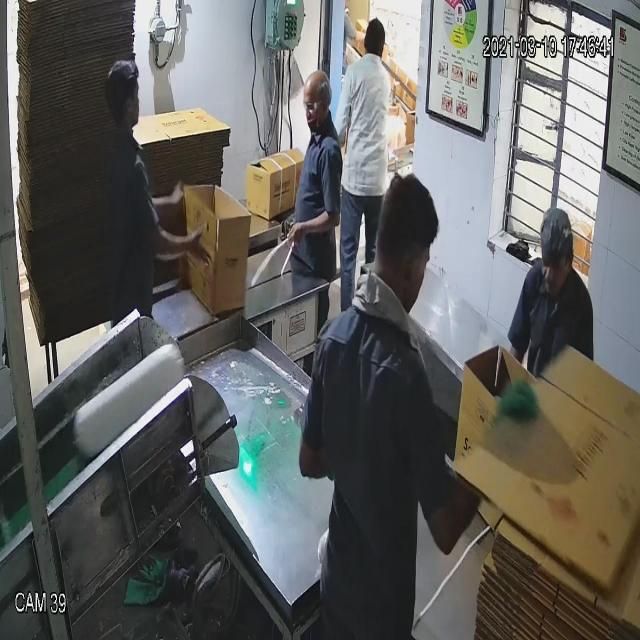No_Gloves: (50, 61, 309, 248)
